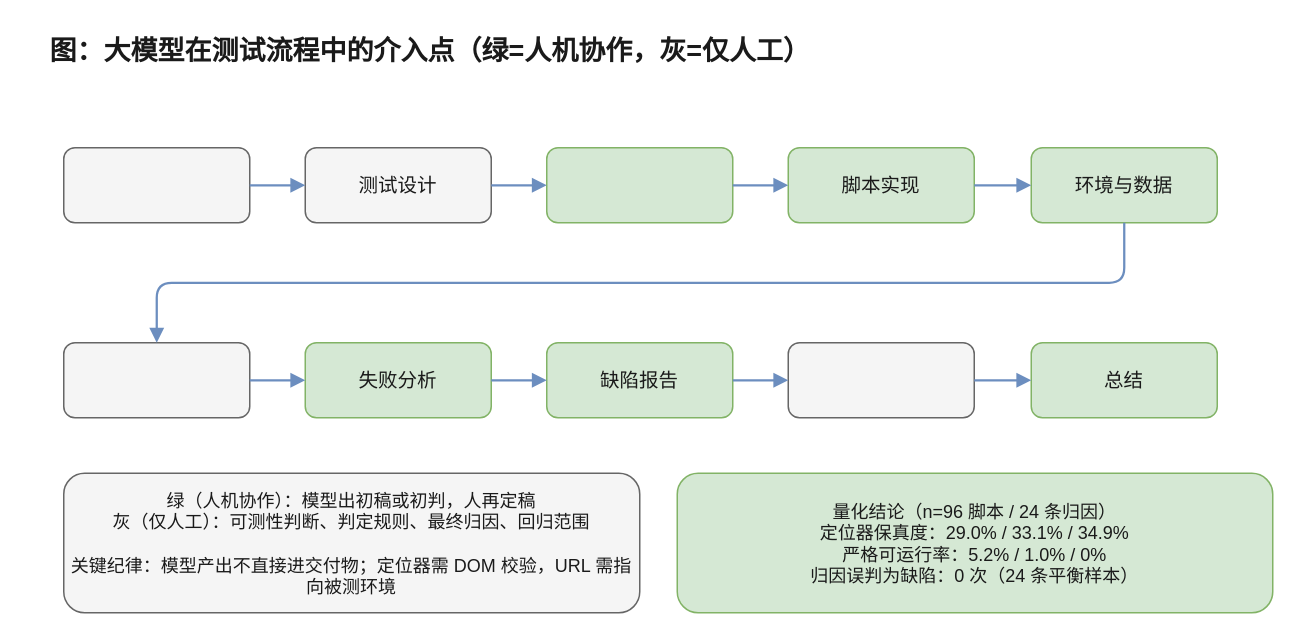
The diagram is 1299 pixels wide and 639 high, and some of its shapes have lost their labels. The shapes that lost their labels are listed below. From the top down, each one's box as (x1, y1, x2, y2) in pixels, then its label:
(62, 146, 250, 223): 需求分析
(545, 146, 733, 223): 用例编写
(62, 341, 250, 418): 测试执行
(787, 341, 974, 418): 回归测试
